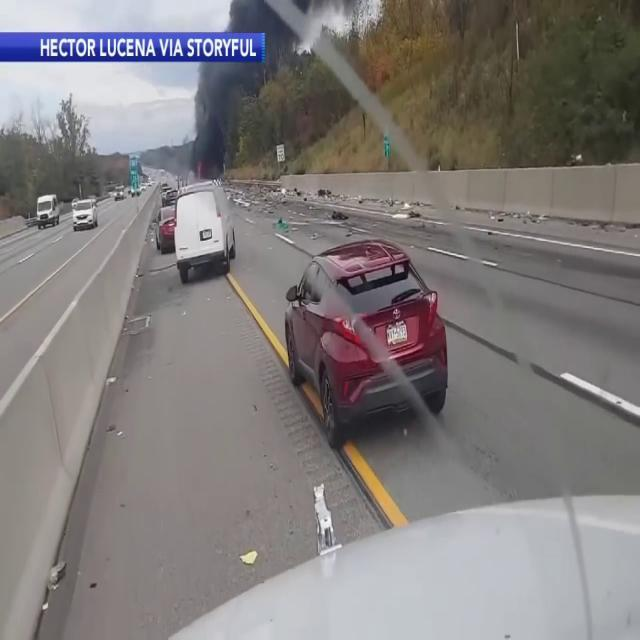Smoke: (192, 0, 338, 169)
